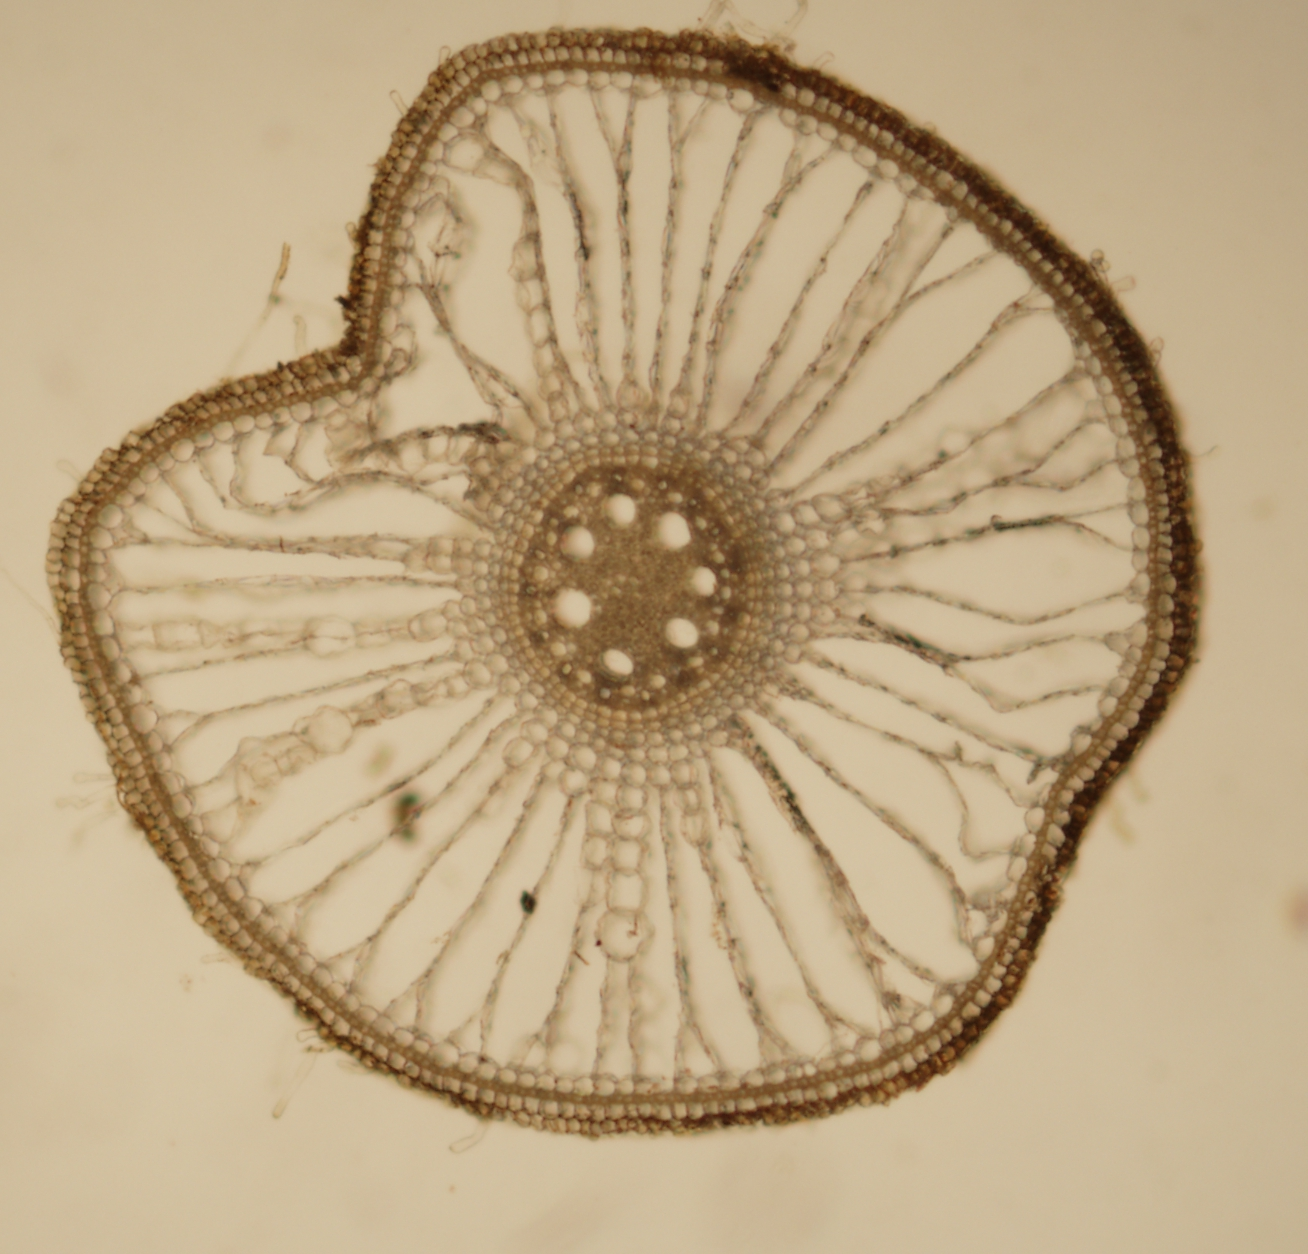lm: (549, 585, 591, 628), (653, 513, 691, 550), (600, 492, 635, 529), (561, 525, 594, 560), (665, 616, 700, 648), (689, 565, 717, 597), (601, 648, 633, 676)
